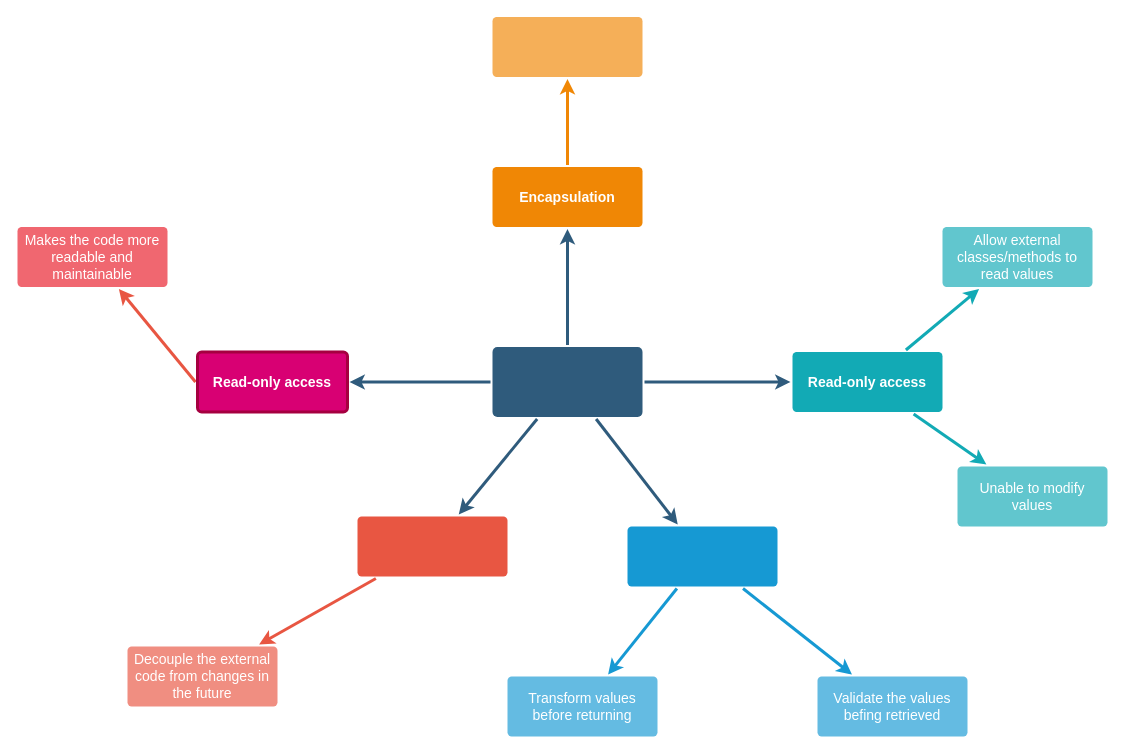
Image size: 1124x754. Some labels were removed from this diagram. The shapes that lost their labels are listed below. From the top down, each one's centre as x and y in pixels, then its label:
At [567,46]: "Only expose neccessary informations".
At [567,381]: "Accessor".
At [432,546]: "Future modifications".
At [702,556]: "Validation & Transformation".
